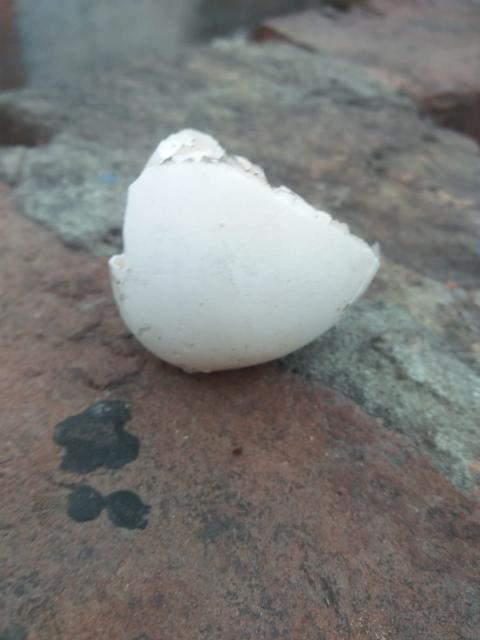Roto: (107, 127, 380, 374)
